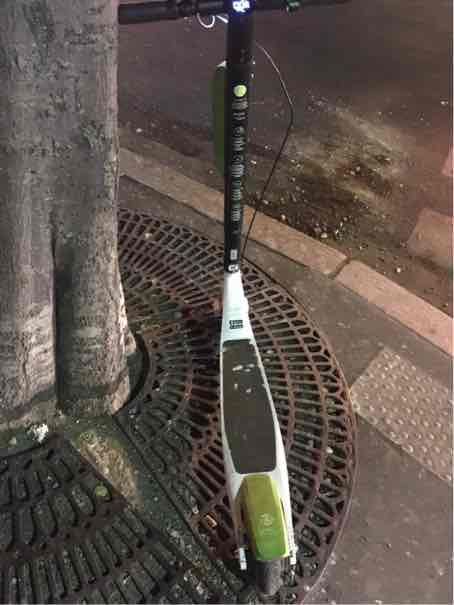scooter: (100, 4, 353, 602)
